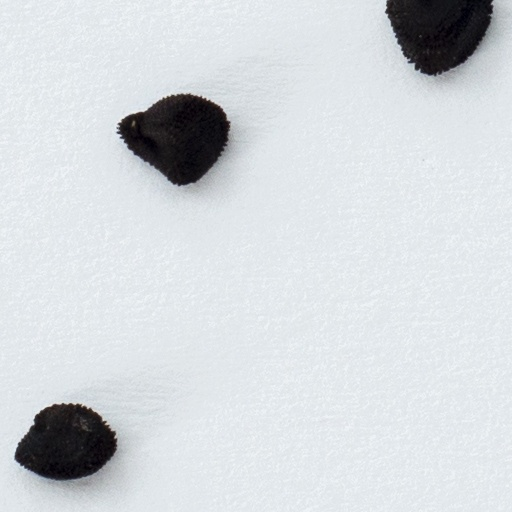Agrostemma: (112, 85, 232, 190), (12, 399, 120, 493), (380, 0, 497, 79)
